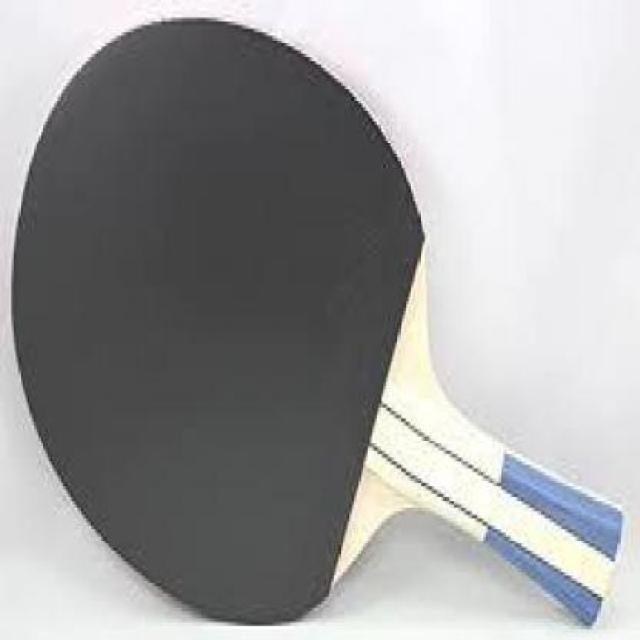table_tennis_racket: (9, 10, 436, 625)
